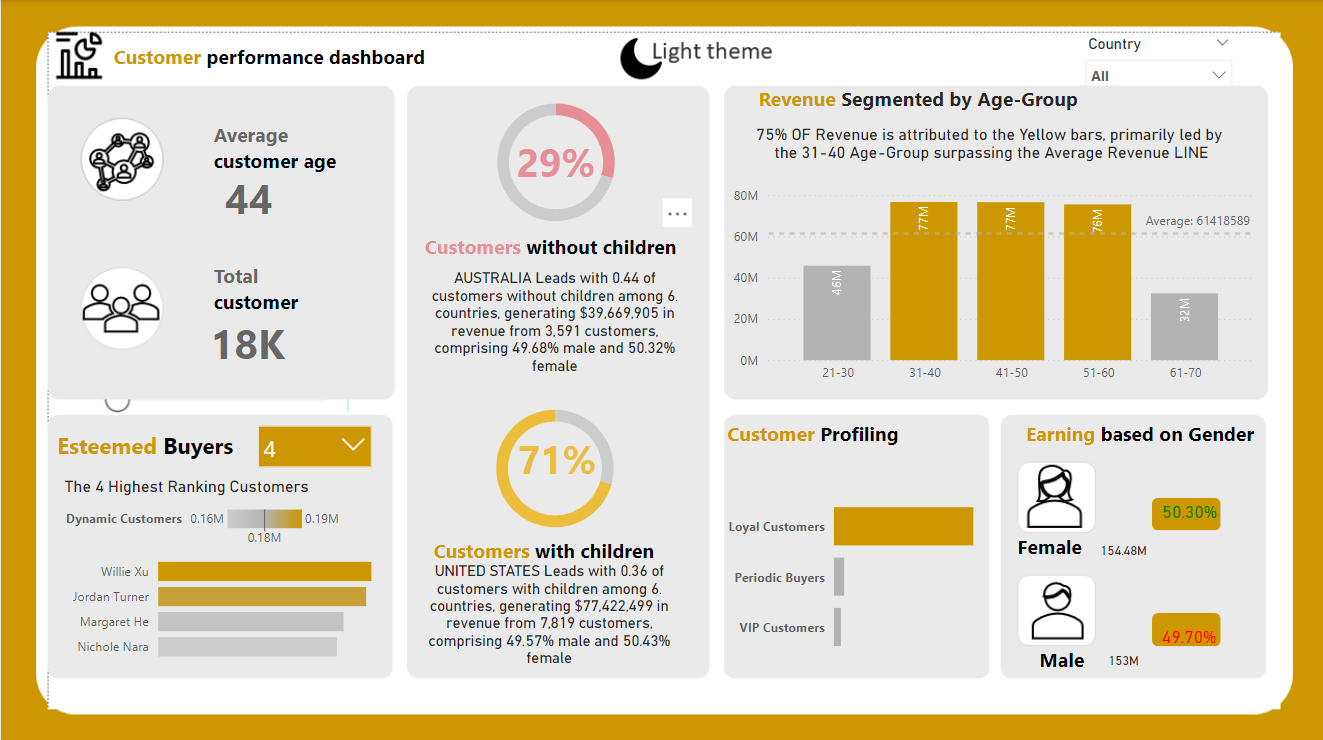

Layout of this report page (visuals, bound fields, positions):
{"tool":"powerbi","page":{"name":"Customer report","canvas":[1280,720],"ordinal":0},"visuals":[{"type":"clusteredColumnChart","fields":{"Y":["All Measures.Total Revenue","All Measures.Total Revenue"],"Category":["DimCustomer.Age Category"]},"box":[702.5,159.3,513.6,218.5],"z":0},{"type":"card","fields":{"Values":["Customer Measures.Avg Caption"]},"box":[696.3,108.6,519.8,61.7],"z":1000},{"type":"textbox","box":[725.9,77.8,337,43.2],"z":2000},{"type":"donutChart","fields":{"Y":["Customer Measures.% C without children","Customer Measures.% CWC"]},"box":[440.6,80.6,191,152],"z":3000},{"type":"donutChart","fields":{"Y":["Customer Measures.% C without children","Customer Measures.% CWC"]},"box":[439.5,376.5,191.4,151.9],"z":4000},{"type":"card","fields":{"Values":["Customer Measures.% C without children"]},"box":[487.1,125.8,96.4,61.9],"z":5000},{"type":"card","fields":{"Values":["Customer Measures.% CWC"]},"box":[489.9,412.3,93.8,61.7],"z":6000},{"type":"textbox","box":[412.3,513.6,245.7,39.5],"z":7000},{"type":"textbox","box":[403.7,221,264.2,39.5],"z":8000},{"type":"card","fields":{"Values":["Customer Measures.Caption Customer without children"]},"box":[395.1,240.7,284,137],"z":9000},{"type":"card","fields":{"Values":["Customer Measures.Caption Customer with children"]},"box":[384,518.5,295.1,146.9],"z":10000},{"type":"clusteredBarChart","fields":{"Category":["DimCustomer.Customer Type"],"Y":["All Measures.Total Revenue"]},"box":[696.1,457.2,260.6,193],"z":11000},{"type":"clusteredBarChart","fields":{"Category":["DimCustomer.Full Name"],"Y":["All Measures.Dynamic Customers"]},"box":[58,484,311.1,165.4],"z":12000},{"type":"slicer","fields":{"Values":["Dynamic customer.Dynamic customer"]},"box":[238.3,400,129.6,60.5],"z":13000},{"type":"card","fields":{"Values":["Customer Measures.%Female"]},"box":[1096.3,469.1,101.2,51.9],"z":14000},{"type":"card","fields":{"Values":["Customer Measures.%Male"]},"box":[1096.3,592.6,101.2,45.7],"z":15000},{"type":"card","fields":{"Values":["Customer Measures.Average Customer Age"]},"box":[188.1,152.3,102.5,76.5],"z":16000},{"type":"card","fields":{"Values":["Customer Measures.#Customers"]},"box":[186.9,291.9,102.5,76.5],"z":17000},{"type":"textbox","box":[200.5,111.6,139.5,70.4],"z":18000},{"type":"textbox","box":[200.5,248.6,111.1,66.7],"z":19000},{"type":"textbox","box":[976.5,509.9,95.1,39.5],"z":20000},{"type":"textbox","box":[984,618.5,79,39.5],"z":21000},{"type":"textbox","box":[49.4,409.9,188.9,43.2],"z":22000},{"type":"card","fields":{"Values":["Customer Measures.Title Top Customers"]},"box":[46.9,455.6,264.2,28.4],"z":23000},{"type":"textbox","box":[984.5,400.5,261.8,42.2],"z":24000},{"type":"card","fields":{"Values":["Customer Measures.Female Revenue"]},"box":[1053.1,507.4,60.5,50.6],"z":25000},{"type":"card","fields":{"Values":["Customer Measures.Male Revenue"]},"box":[1053.1,613.6,60.5,50.6],"z":26000},{"type":"textbox","box":[103.7,37,337,43.2],"z":27000},{"type":"slicer","fields":{"Values":["DimGeography.Country"]},"box":[1035.8,28.4,161.7,63],"z":28000},{"type":"textbox","box":[696.1,400.5,261.8,42.2],"z":29000}]}

Visuals, with their boxes in screenshot pixels (x1, y1, x2, y2), scaled from the page's 1280x720 canvas onto the 1323x740 screenshot:
clusteredColumnChart - All Measures.Total Revenue x All Measures.Total Revenue: <region>726, 164, 1257, 388</region>
card - Customer Measures.Avg Caption: <region>720, 112, 1257, 175</region>
textbox: <region>750, 80, 1099, 124</region>
donutChart - Customer Measures.% C without children x Customer Measures.% CWC: <region>455, 83, 653, 239</region>
donutChart - Customer Measures.% C without children x Customer Measures.% CWC: <region>454, 387, 652, 543</region>
card - Customer Measures.% C without children: <region>503, 129, 603, 193</region>
card - Customer Measures.% CWC: <region>506, 424, 603, 487</region>
textbox: <region>426, 528, 680, 568</region>
textbox: <region>417, 227, 690, 268</region>
card - Customer Measures.Caption Customer without children: <region>408, 247, 702, 388</region>
card - Customer Measures.Caption Customer with children: <region>397, 533, 702, 684</region>
clusteredBarChart - DimCustomer.Customer Type x All Measures.Total Revenue: <region>719, 470, 989, 668</region>
clusteredBarChart - DimCustomer.Full Name x All Measures.Dynamic Customers: <region>60, 497, 381, 667</region>
slicer - Dynamic customer.Dynamic customer: <region>246, 411, 380, 473</region>
card - Customer Measures.%Female: <region>1133, 482, 1238, 535</region>
card - Customer Measures.%Male: <region>1133, 609, 1238, 656</region>
card - Customer Measures.Average Customer Age: <region>194, 157, 300, 235</region>
card - Customer Measures.#Customers: <region>193, 300, 299, 379</region>
textbox: <region>207, 115, 351, 187</region>
textbox: <region>207, 256, 322, 324</region>
textbox: <region>1009, 524, 1108, 565</region>
textbox: <region>1017, 636, 1099, 676</region>
textbox: <region>51, 421, 246, 466</region>
card - Customer Measures.Title Top Customers: <region>48, 468, 322, 497</region>
textbox: <region>1018, 412, 1288, 455</region>
card - Customer Measures.Female Revenue: <region>1088, 521, 1151, 574</region>
card - Customer Measures.Male Revenue: <region>1088, 631, 1151, 683</region>
textbox: <region>107, 38, 456, 82</region>
slicer - DimGeography.Country: <region>1071, 29, 1238, 94</region>
textbox: <region>719, 412, 990, 455</region>
